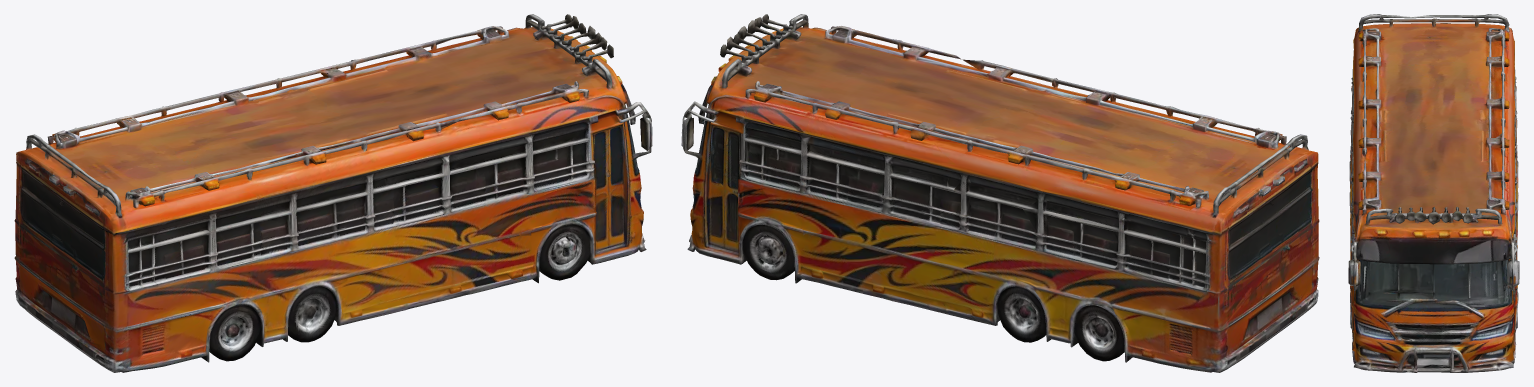
File: ashok.glb
The picture shows the model from 3 angles, left to right: view 1: azimuth 30°, elevation 25°; view 2: azimuth 150°, elevation 25°; view 3: azimuth 270°, elevation 25°; orthographic projection. The views are drawn at different scales.
Parts seen in each view (by area): view 1: tripo_node_eadbd297-153b-4bcd-8d83-357e87a1ad5e; view 2: tripo_node_eadbd297-153b-4bcd-8d83-357e87a1ad5e; view 3: tripo_node_eadbd297-153b-4bcd-8d83-357e87a1ad5e.
Part boxes in pixels (box(x1,y1,x2,y2)): tripo_node_eadbd297-153b-4bcd-8d83-357e87a1ad5e: box(14, 14, 652, 372); tripo_node_eadbd297-153b-4bcd-8d83-357e87a1ad5e: box(681, 14, 1319, 372); tripo_node_eadbd297-153b-4bcd-8d83-357e87a1ad5e: box(1348, 14, 1519, 372).
Bounding box in the file's own units: 1 × 0.3442 × 0.3287.
1 material, 1 textured.
